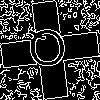Q: (25, 25, 70, 78)
